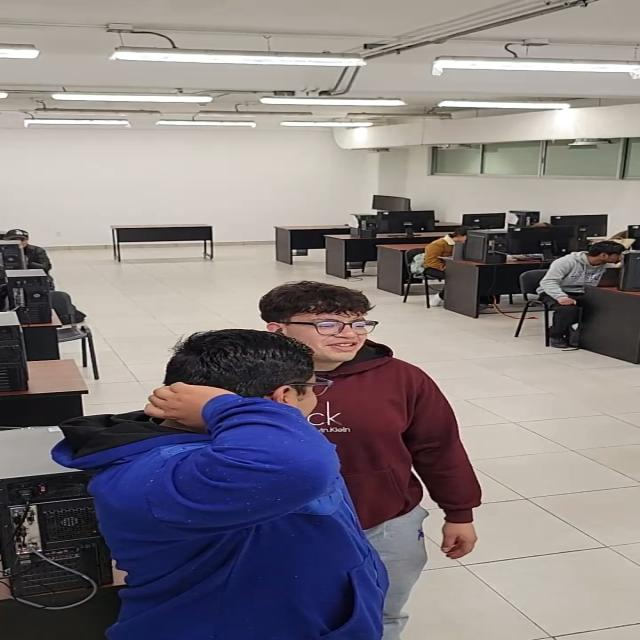Persona: (59, 328, 386, 640), (258, 279, 487, 640)
